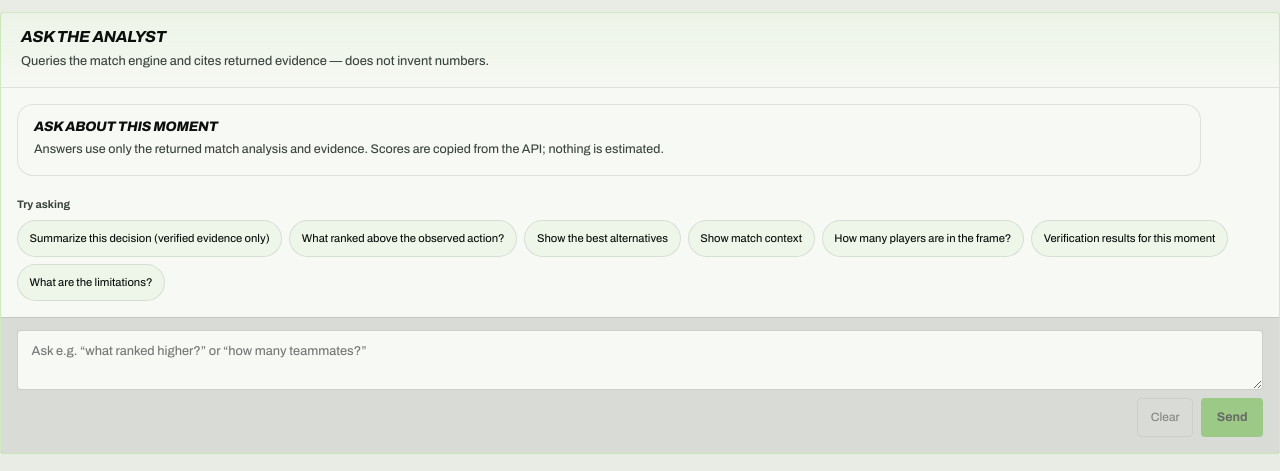
Test: DecisionAnalystChat › routes suggested prompts through the same orchestrator client
What coordinates should you click on to do the following:
click the button "What ranked above the observed action?"
I would click on:
 (403, 239)
Its box is [289, 220, 517, 257].
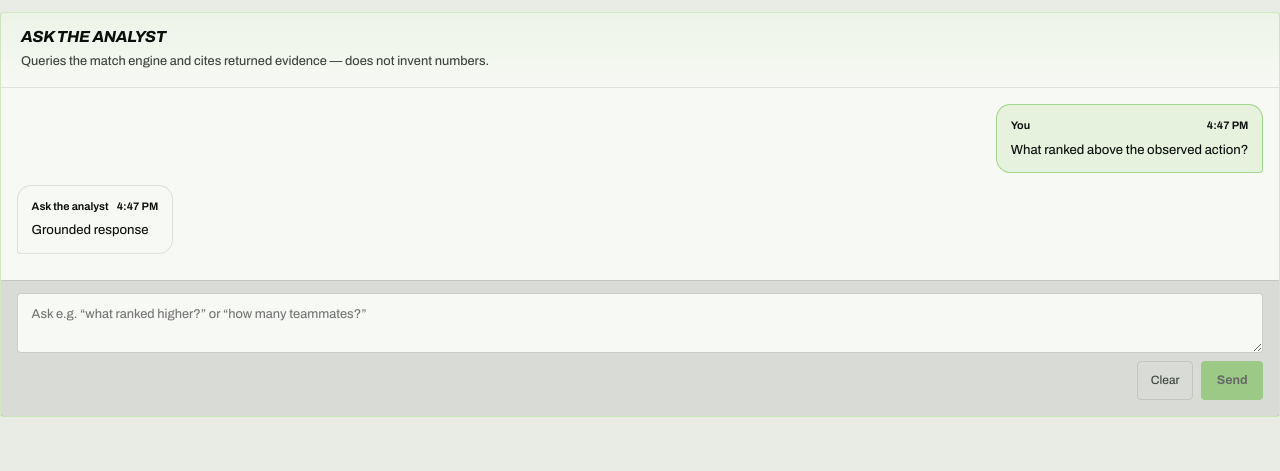
expect the text "Grounded response" is shown: met, box [32, 220, 158, 241]
